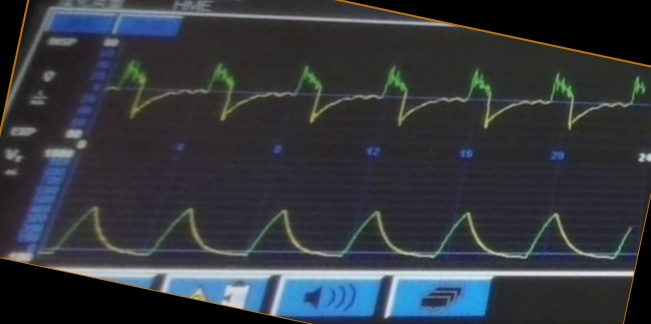Accumulation Flow: (113, 54, 594, 142)
Volume: (70, 174, 628, 266)
